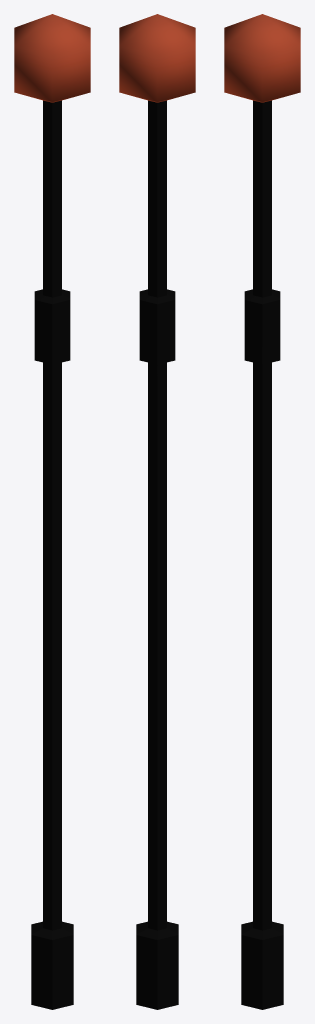
File: LampPole_Long_Red.fbx
3 views of the same model, side by side, from view 1: azimuth 90°, elevation 25°; view 2: azimuth 150°, elevation 25°; view 3: azimuth 270°, elevation 25° (orthographic).
Visible parts, largest first — view 1: LampPole_Long_Red; view 2: LampPole_Long_Red; view 3: LampPole_Long_Red.
Boxes of the visible parts, x1,y1,x2,y2 form: LampPole_Long_Red: (14, 14, 90, 1009); LampPole_Long_Red: (119, 14, 195, 1009); LampPole_Long_Red: (224, 14, 300, 1009).
Size of the model in its own units: 16.11 by 199 by 13.95.
